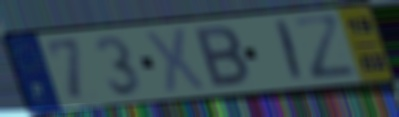3: (94, 34, 144, 98)
7: (44, 35, 87, 103)
B: (192, 24, 253, 90)
I: (274, 17, 305, 84)
X: (143, 25, 208, 96)
Z: (288, 14, 361, 84)
